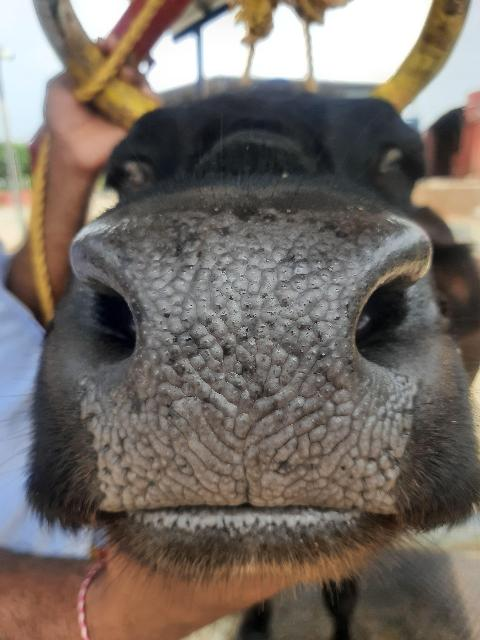Muzzle: (102, 232, 386, 516)
